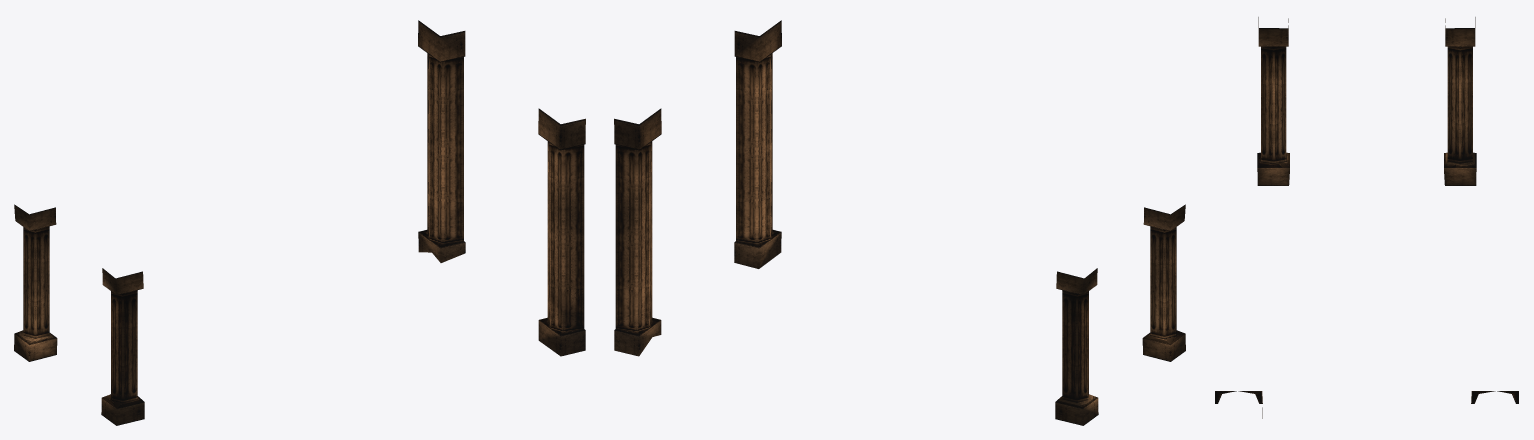
File: test-pillars.glb
The picture shows the model from 3 angles, left to right: view 1: azimuth 30°, elevation 25°; view 2: azimuth 150°, elevation 25°; view 3: azimuth 270°, elevation 25°; orthographic projection. The views are drawn at different scales.
Parts seen in each view (by area): view 1: pillars; view 2: pillars; view 3: pillars.
Part boxes in pixels (box(x1,y1,x2,y2)): pillars: box(14, 20, 585, 425); pillars: box(614, 20, 1185, 425); pillars: box(1215, 17, 1518, 418).
Size of the model in its own units: 273 by 135 by 151.
Materials: 3 (3 with a texture image).
